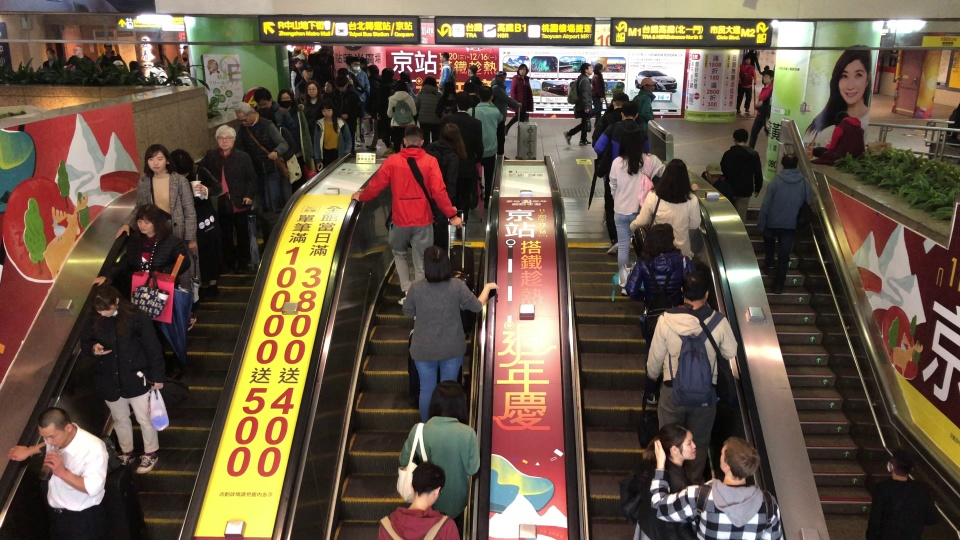person_head: (720, 436, 761, 485), (405, 463, 445, 511), (33, 406, 75, 449), (656, 424, 696, 465), (427, 381, 467, 421), (422, 245, 454, 283), (678, 272, 710, 308), (643, 223, 676, 257), (93, 281, 122, 318), (660, 157, 692, 186), (143, 143, 169, 177), (888, 446, 913, 479), (616, 136, 650, 160), (135, 205, 160, 236), (167, 148, 194, 175), (214, 125, 238, 153), (441, 123, 463, 152), (234, 101, 258, 126), (400, 126, 424, 148), (252, 86, 273, 109), (778, 153, 799, 170), (277, 88, 293, 110), (620, 102, 639, 120), (732, 128, 749, 147), (610, 92, 627, 109), (303, 80, 319, 98), (453, 95, 470, 111), (477, 86, 492, 103), (833, 110, 850, 125), (640, 76, 655, 92), (321, 101, 335, 117), (381, 67, 395, 83), (578, 62, 593, 76), (761, 69, 774, 85), (392, 81, 407, 94), (494, 70, 507, 83), (516, 63, 529, 76), (336, 77, 348, 91), (423, 76, 437, 88), (71, 44, 83, 57), (302, 65, 314, 78), (399, 70, 411, 83), (465, 66, 478, 78), (368, 64, 380, 76), (323, 81, 335, 93), (349, 60, 360, 73), (593, 62, 604, 74), (439, 52, 450, 63), (45, 49, 55, 60), (150, 59, 160, 69), (102, 42, 113, 51), (337, 67, 348, 76), (293, 58, 302, 68), (743, 55, 750, 66), (182, 44, 188, 51)
person_vbox: (645, 270, 740, 484), (352, 126, 463, 306), (401, 247, 498, 422), (80, 280, 165, 474), (118, 143, 200, 332), (649, 435, 786, 540), (7, 406, 110, 539), (90, 205, 189, 343), (624, 224, 691, 405), (396, 381, 481, 519), (196, 124, 257, 272), (592, 102, 650, 254), (603, 135, 666, 273), (757, 151, 817, 293), (166, 149, 224, 294), (626, 424, 697, 539), (233, 100, 288, 242), (862, 446, 941, 540), (646, 158, 718, 260), (376, 463, 461, 540), (440, 95, 484, 222), (426, 123, 469, 246), (592, 92, 630, 220), (466, 86, 505, 207), (252, 86, 296, 193), (707, 126, 755, 223), (277, 88, 313, 186), (808, 110, 867, 167), (488, 69, 521, 160), (310, 101, 353, 170), (383, 81, 418, 154), (563, 63, 592, 147), (504, 62, 535, 136), (631, 76, 660, 147), (749, 69, 775, 148), (367, 67, 391, 152), (416, 76, 444, 146), (336, 77, 361, 153), (733, 55, 756, 114), (302, 80, 322, 147), (589, 62, 608, 127), (93, 42, 127, 72), (64, 44, 99, 72), (437, 52, 458, 93), (346, 60, 372, 93), (295, 64, 319, 99), (322, 81, 344, 117), (336, 67, 363, 94), (463, 65, 484, 94), (289, 59, 305, 95), (146, 58, 169, 83), (399, 70, 418, 100), (367, 64, 382, 95), (42, 48, 58, 70), (175, 43, 190, 65)
